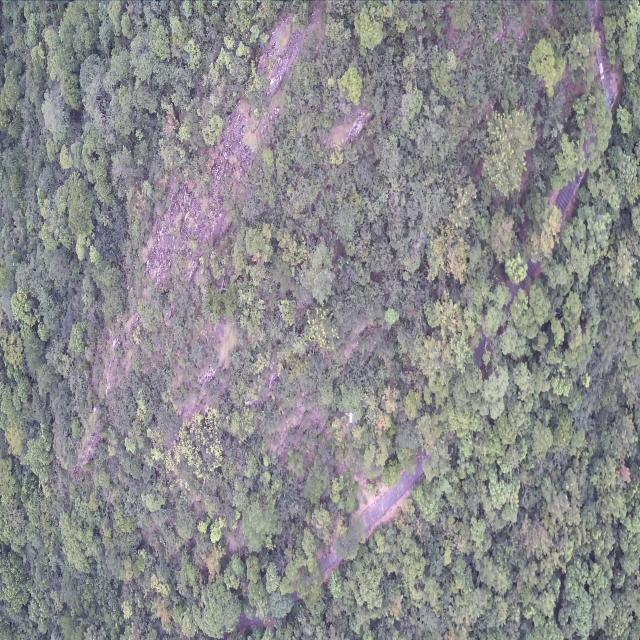drone: (345, 412, 356, 425)
